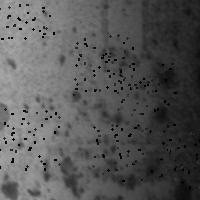pitted_surface: (16, 85, 144, 194), (50, 3, 177, 102), (0, 108, 58, 168), (92, 124, 152, 180), (74, 34, 133, 90), (114, 60, 174, 114), (73, 37, 128, 94), (159, 124, 200, 180), (0, 0, 53, 38), (169, 130, 200, 186)
